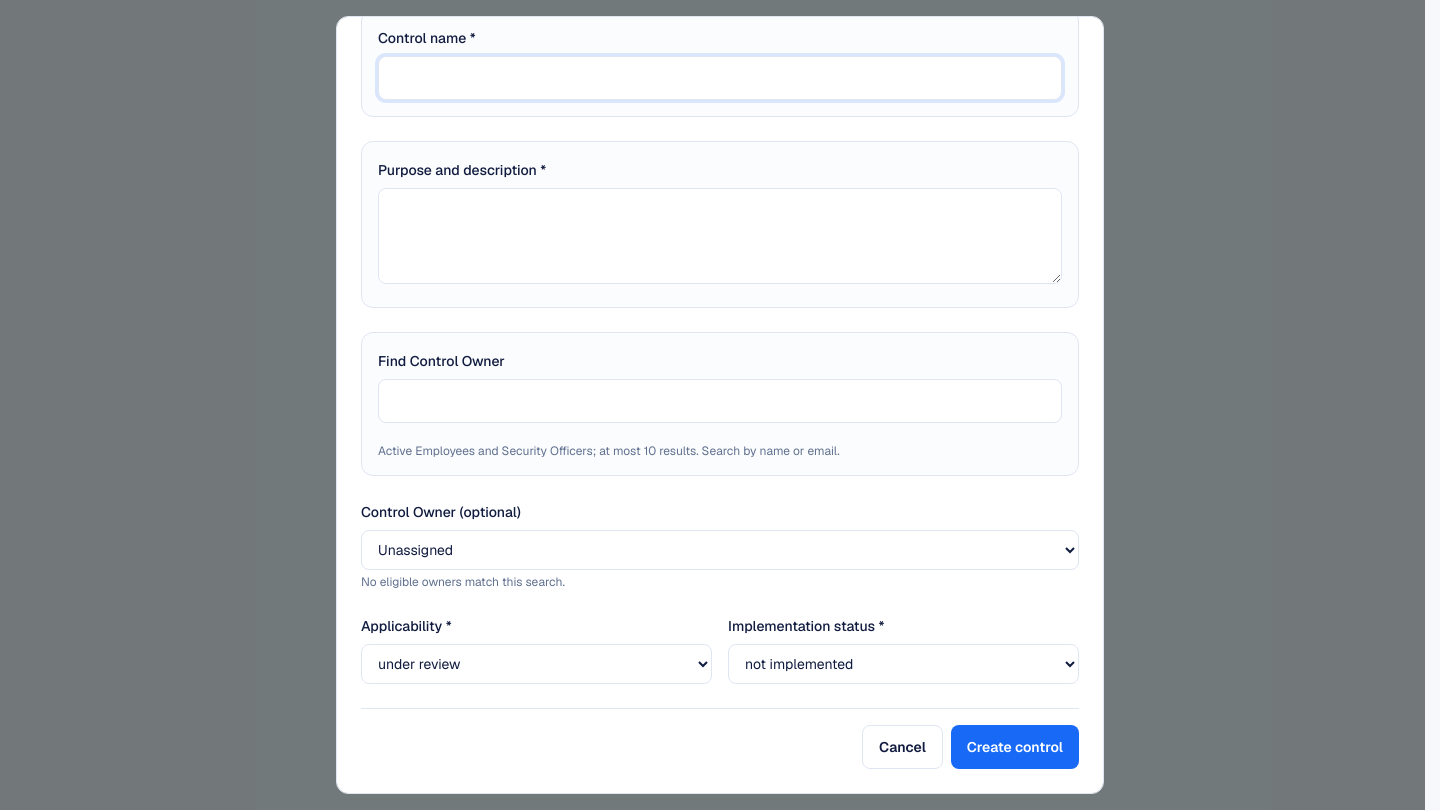
Test case: ControlEditor › validates required fields and focuses the first invalid field
(page scrolled)
Click the button "Create control" at (1015, 747), box [951,725,1079,769]
(page scrolled)
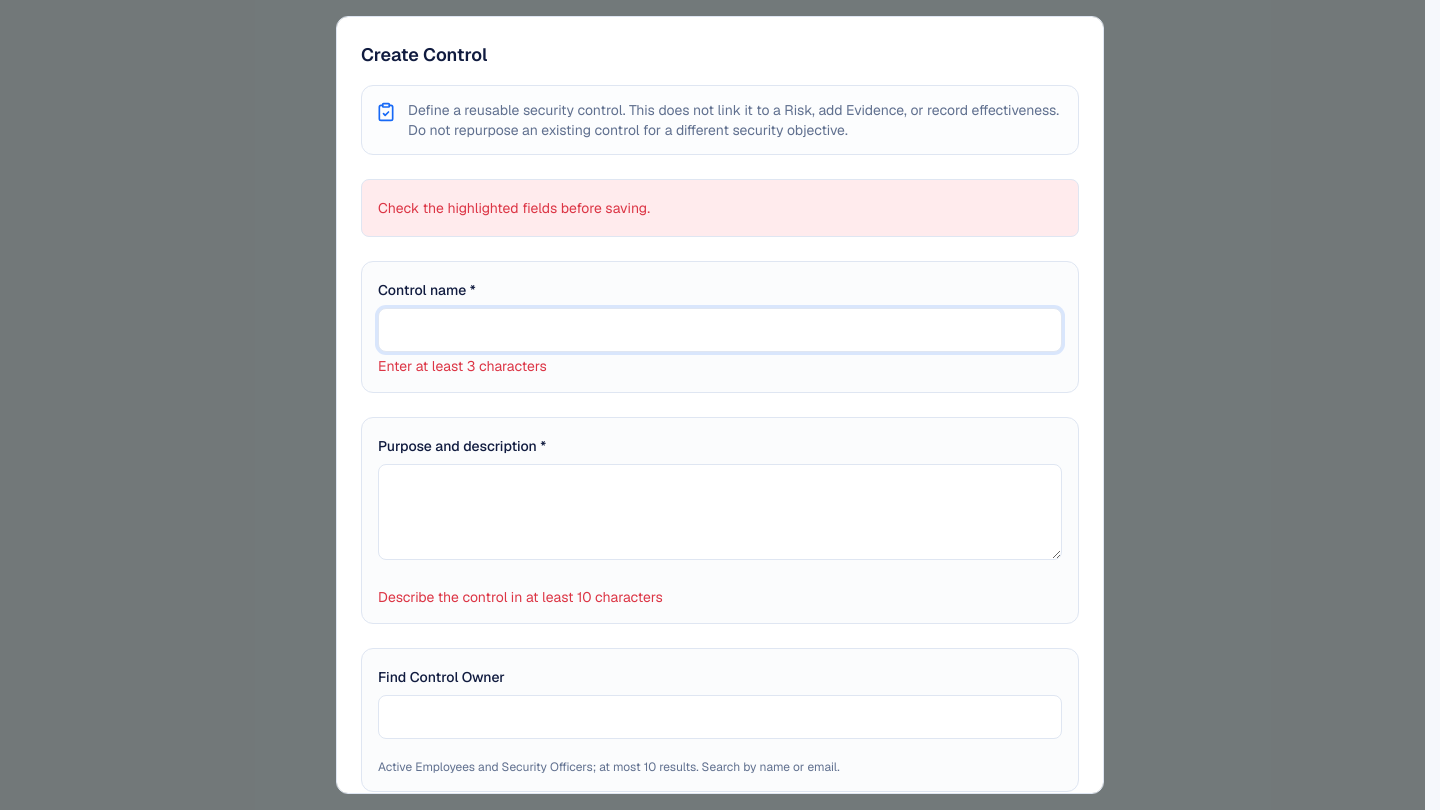
Now the message shows "highlighted fields", box [378,199,650,217]
